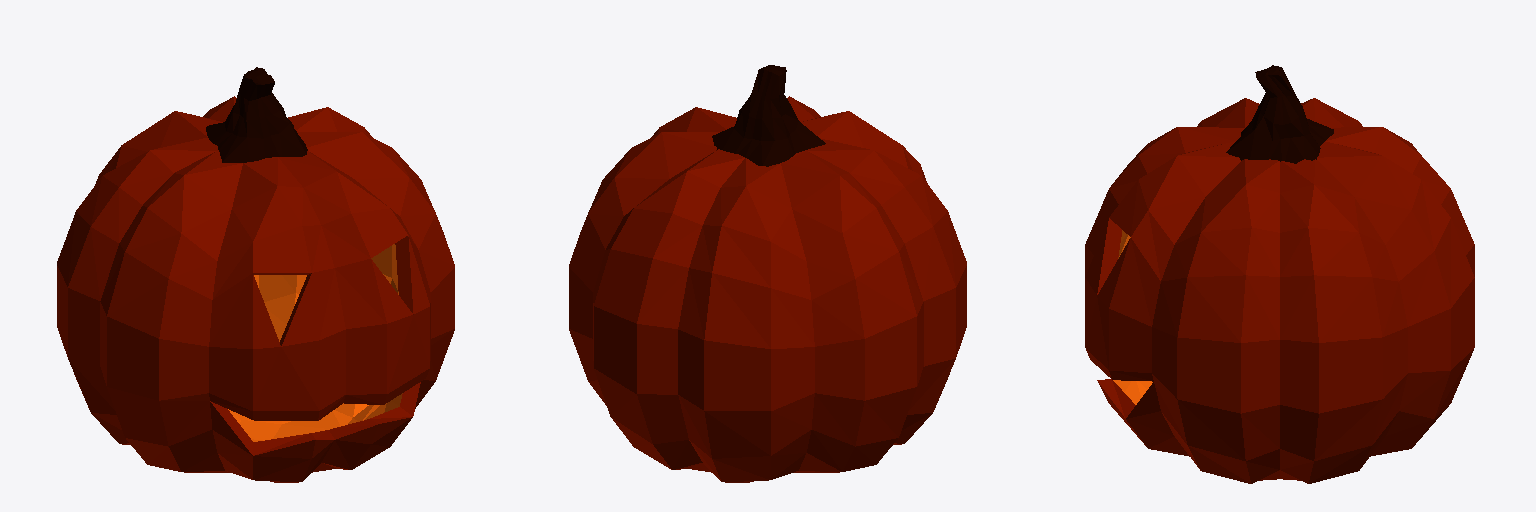
File: pumpkin_basic.obj
3 renders of one model, left to right at view 1: azimuth 30°, elevation 25°; view 2: azimuth 150°, elevation 25°; view 3: azimuth 270°, elevation 25°, orthographic.
Parts seen in each view (by area): view 1: 2, 0, 1; view 2: 2, 0; view 3: 2, 0, 1.
Boxes of the visible parts, <box> form: 2: <box>57,96,454,482</box>; 0: <box>206,67,307,162</box>; 1: <box>228,244,402,441</box>; 2: <box>569,96,966,482</box>; 0: <box>712,65,825,166</box>; 2: <box>1085,98,1474,483</box>; 0: <box>1226,65,1333,163</box>; 1: <box>1113,230,1152,404</box>.
Size of the model in its own units: 0.4734 by 0.5024 by 0.4734.